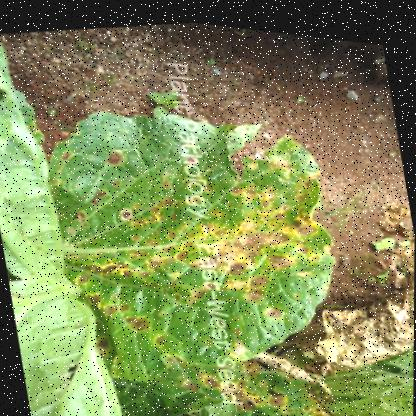Anthracnose: (66, 173, 200, 303), (208, 201, 310, 309), (121, 304, 155, 335), (102, 142, 129, 166)
